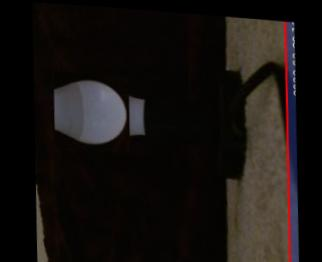Fan: (52, 69, 131, 150)
